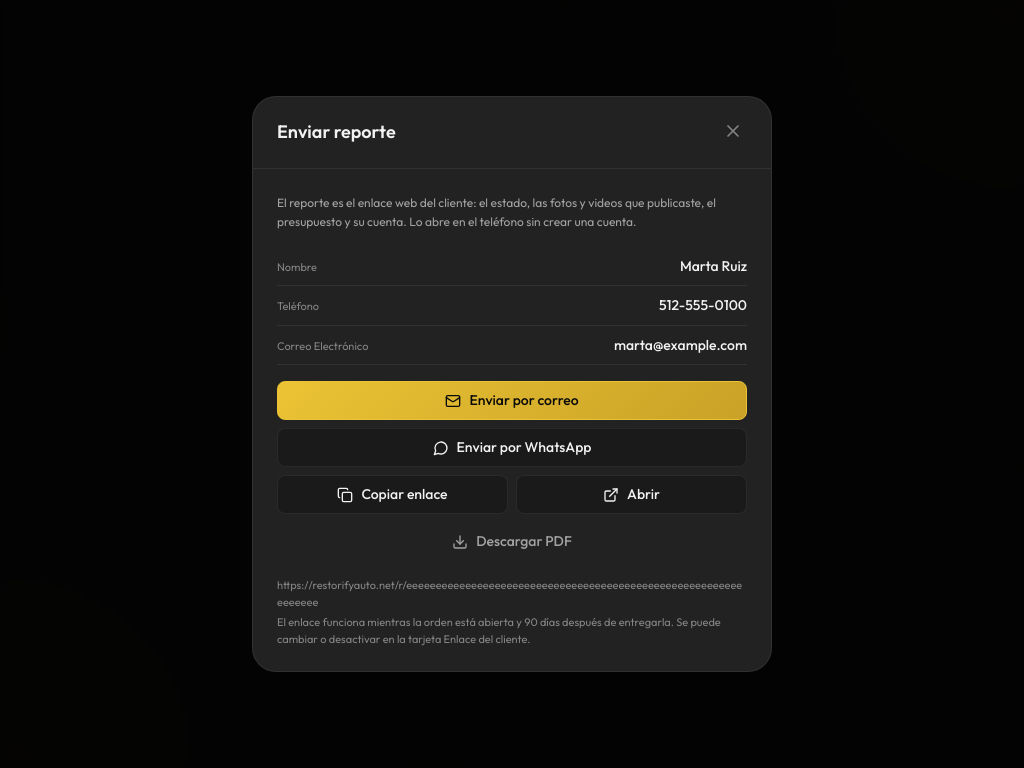
ShareReportModal › manda el reporte por correo desde el sistema y cierra
This screenshot has width=1024, height=768.
Click the button "Enviar por correo". click: x=512, y=401
box: [277, 381, 747, 420]
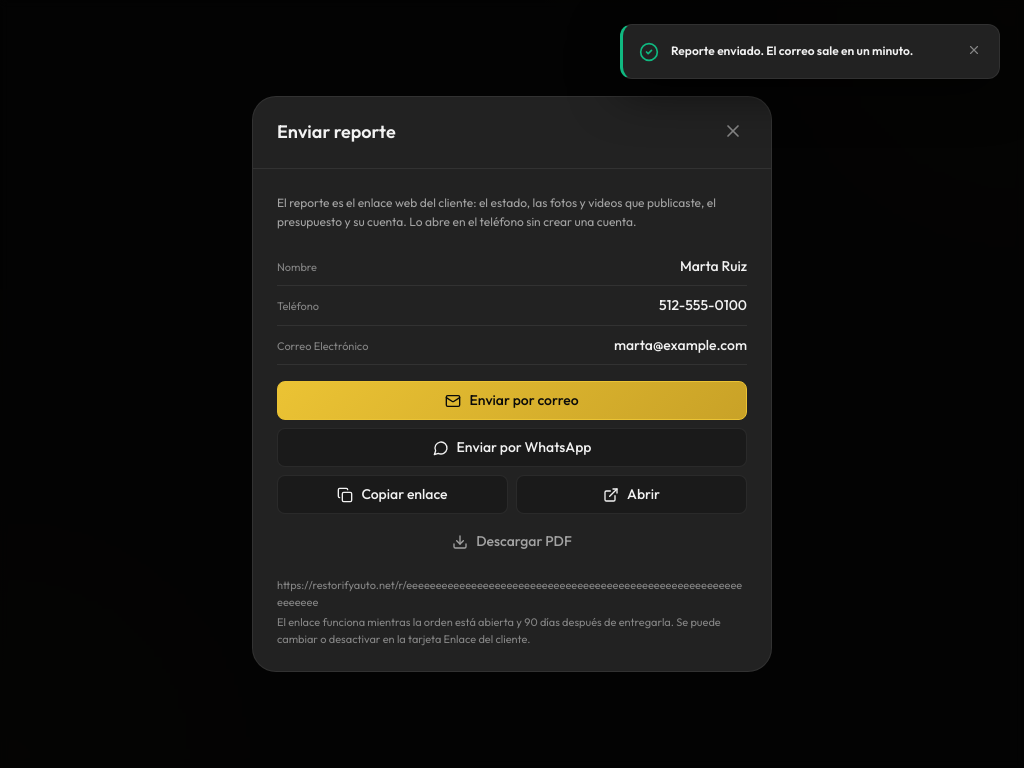
Expected: the text "Reporte enviado. El correo sale en un minuto." is shown, [671, 41, 953, 60]
